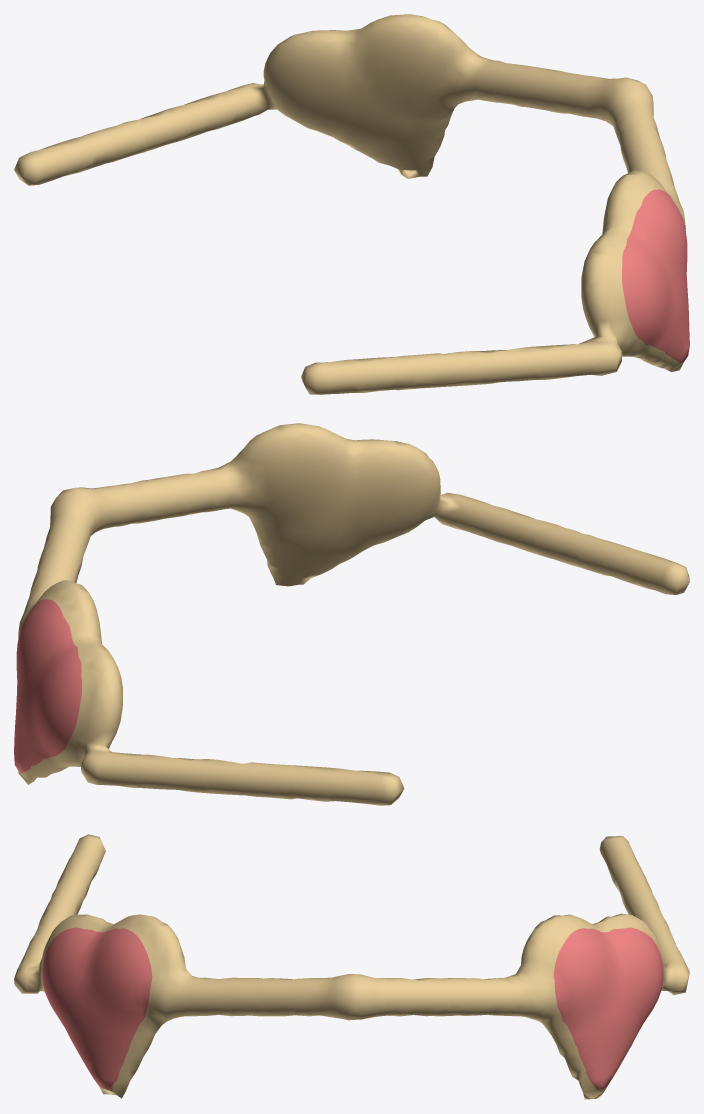
File: acc_heartglasses.glb
The picture shows the model from 3 angles, top to bottom: view 1: azimuth 30°, elevation 25°; view 2: azimuth 150°, elevation 25°; view 3: azimuth 270°, elevation 25°; orthographic projection. The views are drawn at different scales.
Visible parts, largest first — view 1: body; view 2: body; view 3: body.
Boxes of the visible parts, bbox=[...] form: body: bbox=[14, 14, 689, 394]; body: bbox=[14, 423, 689, 805]; body: bbox=[14, 834, 689, 1099].
Bounding box in the file's own units: 0.5948 × 0.2165 × 0.7732.
